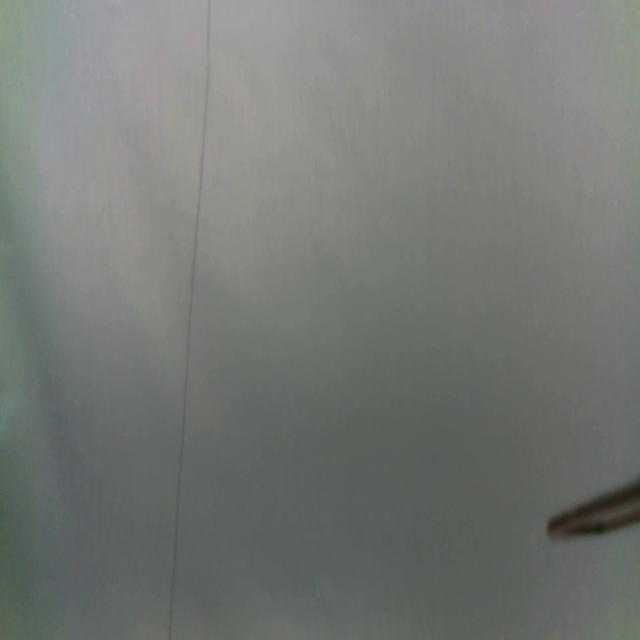crease: (165, 0, 215, 639)
